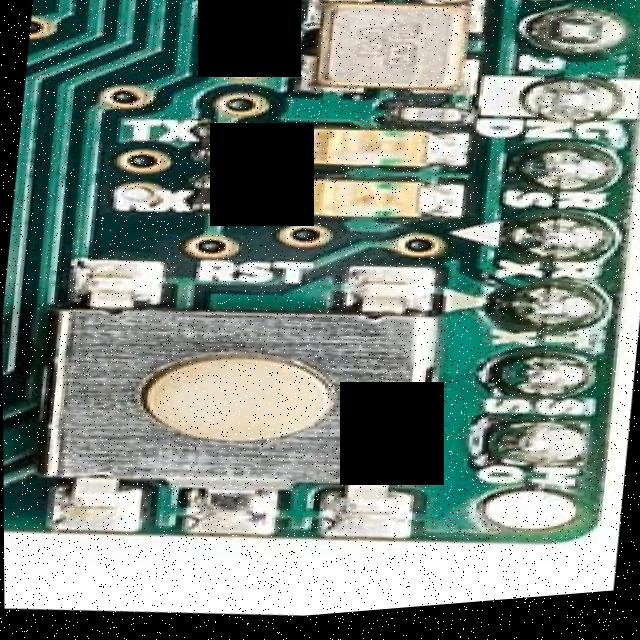2235: (17, 261, 437, 536)
LED: (0, 0, 640, 597), (281, 118, 462, 186), (287, 166, 445, 235)
capacitor 1V5: (388, 106, 472, 142), (212, 27, 294, 61)
clock Q1: (293, 0, 488, 117)
resistor IR1: (189, 124, 255, 166), (176, 174, 242, 216)
